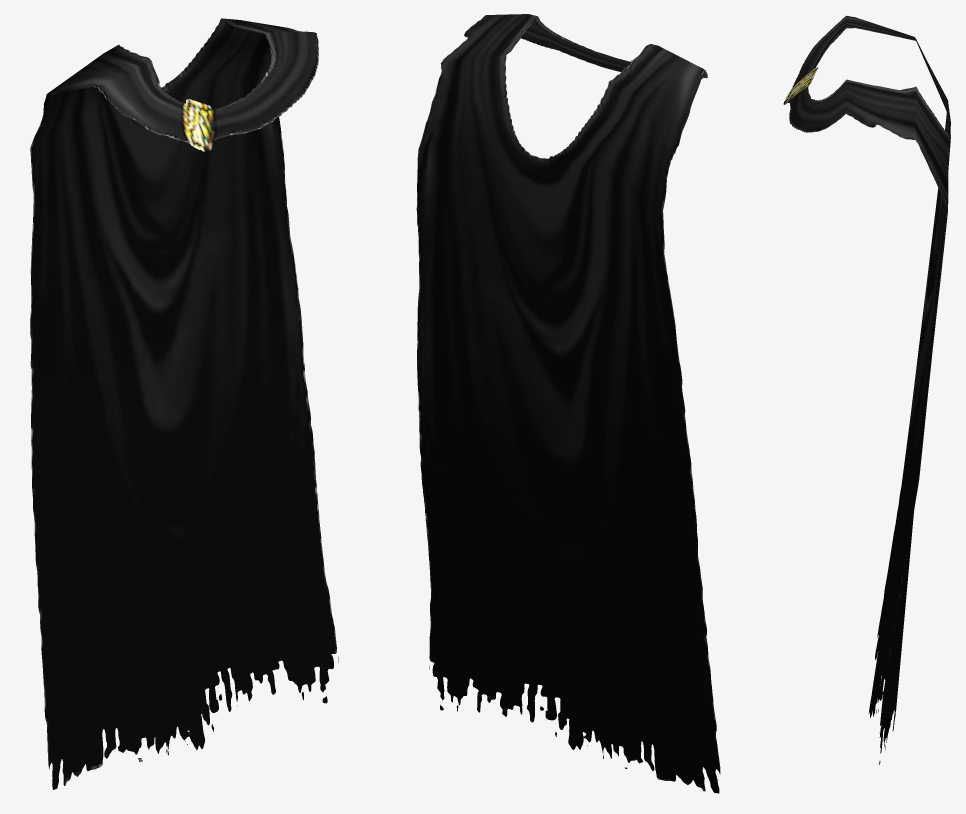
File: cape_hd_transparent.dae
The picture shows the model from 3 angles, left to right: view 1: azimuth 30°, elevation 25°; view 2: azimuth 150°, elevation 25°; view 3: azimuth 270°, elevation 25°; orthographic projection. The views are drawn at different scales.
Parts seen in each view (by area): view 1: Plane001; view 2: Plane001; view 3: Plane001.
Boxes of the visible parts, x1,y1,x2,y2 form: Plane001: (30, 18, 338, 789); Plane001: (416, 14, 720, 793); Plane001: (783, 15, 950, 764).
Size of the model in its own units: 1.49 by 3.02 by 0.6924.
